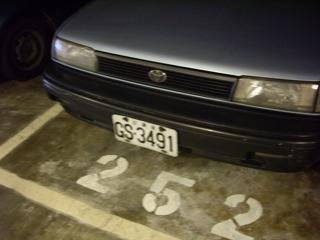plate: (111, 109, 180, 161)
